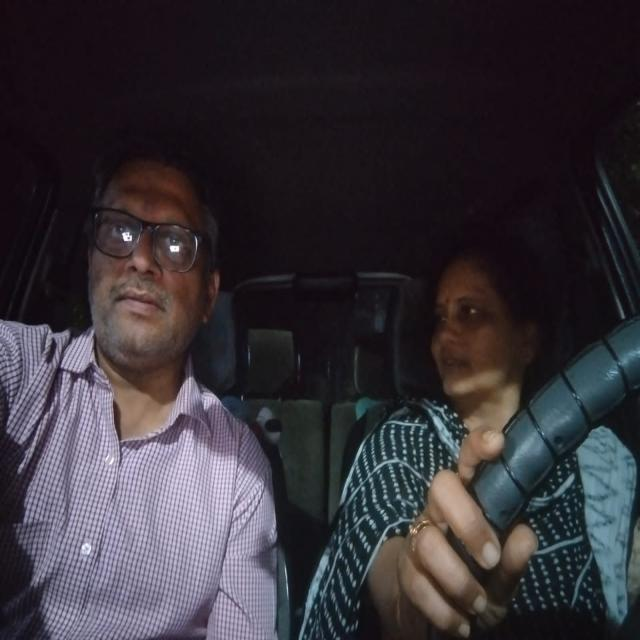LeftRight: (420, 228, 549, 428)
person: (76, 154, 230, 384)
